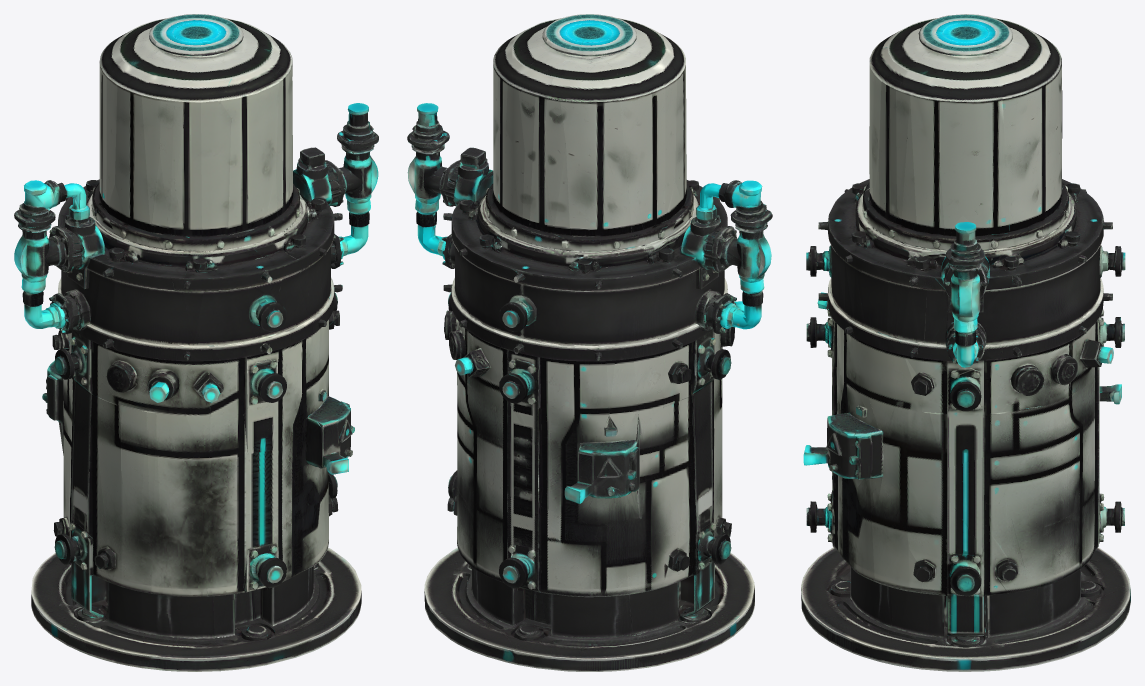
File: reactor-apparatus.glb
3 views of the same model, side by side, from view 1: azimuth 30°, elevation 25°; view 2: azimuth 150°, elevation 25°; view 3: azimuth 270°, elevation 25° (orthographic).
Visible parts, largest first — view 1: Mesh_0.001; view 2: Mesh_0.001; view 3: Mesh_0.001.
Part boxes in pixels (left/top/right/bottom): Mesh_0.001: left=14, top=14, right=378, bottom=671; Mesh_0.001: left=407, top=14, right=772, bottom=671; Mesh_0.001: left=801, top=14, right=1130, bottom=671.
Bounding box in the file's own units: 1.18 × 1.79 × 0.9413.
Materials: 1 (1 with a texture image).
